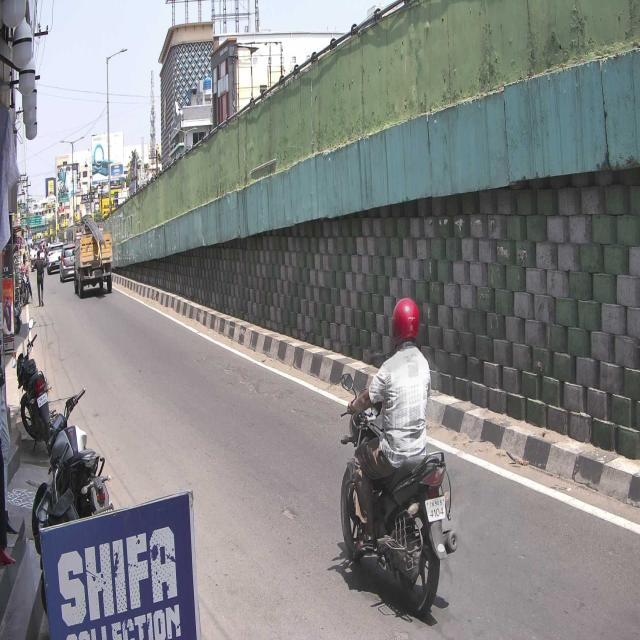single_rider: (338, 301, 458, 618)
